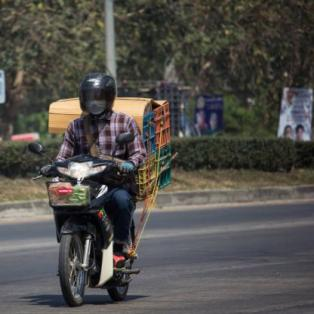Motocicleta: (24, 141, 138, 307)
